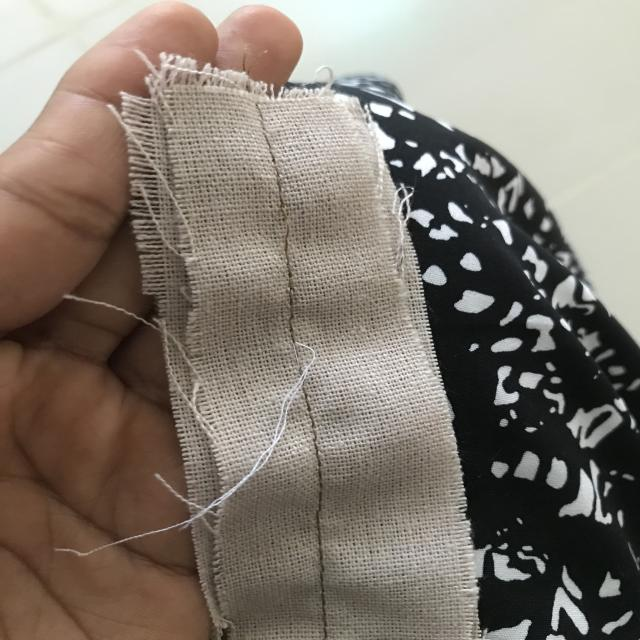skip: (266, 202, 305, 252)
